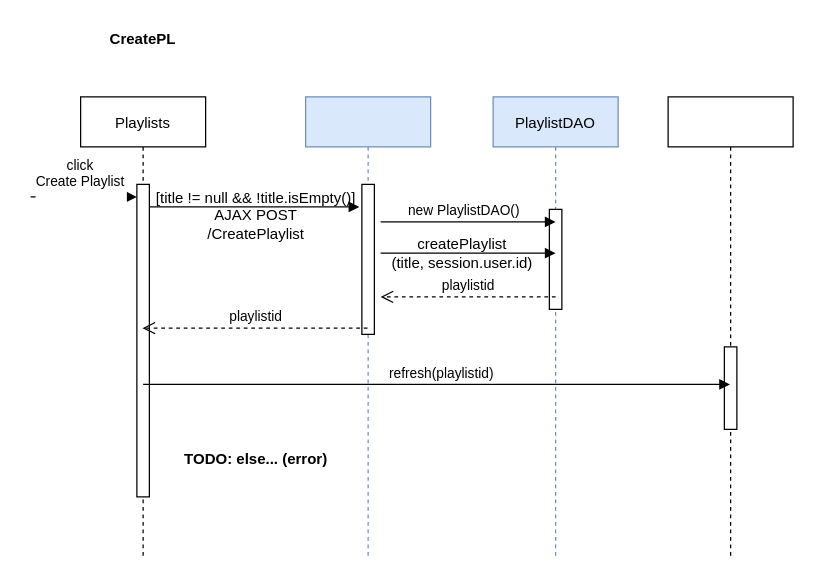
Image size: 815x581. Some labels were removed from this diagram. The shapes that lost their labels are listed below. From the top down, each one's centre as x and y in pixels, then its label:
point (367, 327): CreatePlaylist
point (730, 327): PageOrchestrator
